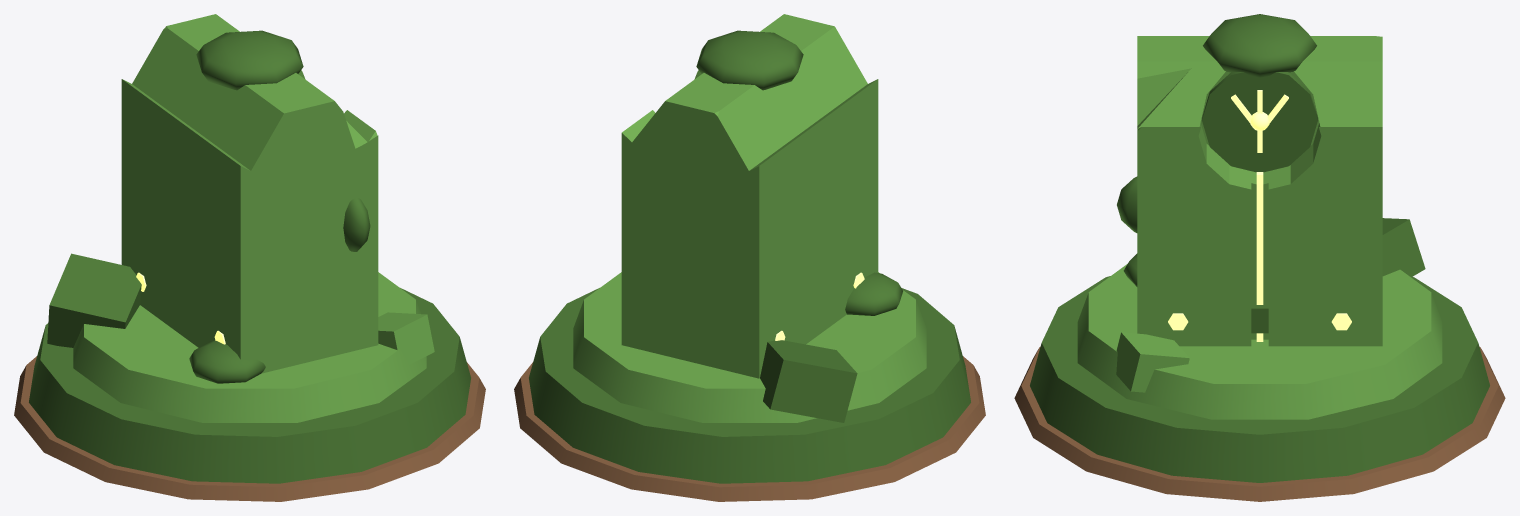
File: waystone.glb
3 renders of one model, left to right at view 1: azimuth 30°, elevation 25°; view 2: azimuth 150°, elevation 25°; view 3: azimuth 270°, elevation 25°, orthographic. The views are drawn at different scales.
Visible parts, largest first — view 1: Mesh_Monolith, Mesh_BaseSlab1, Mesh_BaseSlab2, Mesh_DirtBase, Mesh_BaseRock1, Mesh_MossTop, Mesh_BaseRock2, Mesh_MossBase, Mesh_MossSide; view 2: Mesh_Monolith, Mesh_BaseSlab1, Mesh_BaseSlab2, Mesh_DirtBase, Mesh_BaseRock1, Mesh_MossTop, Mesh_MossBase; view 3: Mesh_Monolith, Mesh_BaseSlab1, Mesh_BaseSlab2, Mesh_DirtBase, Mesh_RuneBacking, Mesh_MossTop, Mesh_BaseRock2, Mesh_BaseRock1, Mesh_RuneChannel, Mesh_MossSide.
Part boxes in pixels (x1,y1,x2,y2): Mesh_Monolith: (121,14,378,373); Mesh_BaseSlab1: (29,288,470,483); Mesh_BaseSlab2: (73,272,426,422); Mesh_DirtBase: (14,356,485,501); Mesh_BaseRock1: (47,253,141,347); Mesh_MossTop: (196,30,303,90); Mesh_BaseRock2: (378,312,434,364); Mesh_MossBase: (189,340,265,383); Mesh_MossSide: (343,198,370,251); Mesh_Monolith: (621,14,878,378); Mesh_BaseSlab1: (529,288,970,483); Mesh_BaseSlab2: (573,272,926,422); Mesh_DirtBase: (514,356,985,501); Mesh_BaseRock1: (760,340,857,422); Mesh_MossTop: (696,30,803,90); Mesh_MossBase: (845,272,902,315); Mesh_Monolith: (1137,36,1382,346); Mesh_BaseSlab1: (1030,276,1489,482); Mesh_BaseSlab2: (1077,264,1442,419); Mesh_DirtBase: (1014,346,1505,501); Mesh_RuneBacking: (1202,72,1317,172); Mesh_MossTop: (1203,14,1316,77); Mesh_BaseRock2: (1116,332,1189,392); Mesh_BaseRock1: (1382,218,1425,277); Mesh_RuneChannel: (1256,172,1263,341); Mesh_MossSide: (1117,176,1137,232).
Bounding box in the file's own units: 0.72 × 0.605 × 0.72.
Materials: 3 (3 with a texture image).
